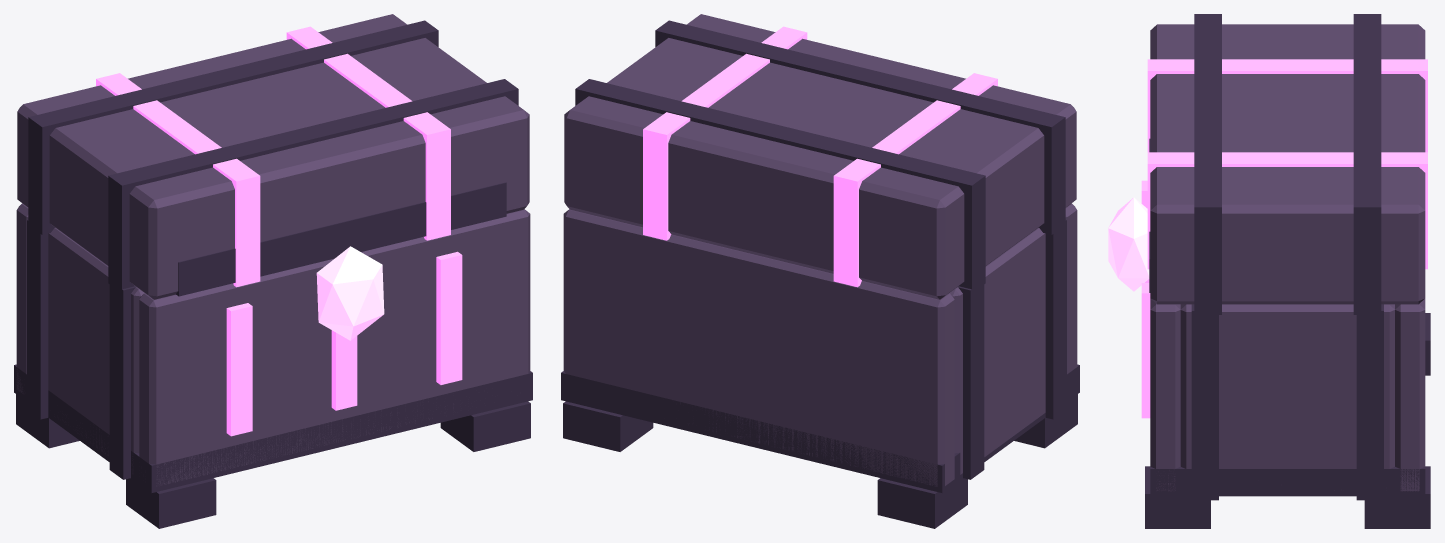
File: loot_chest_wellspring_closed.glb
3 renders of one model, left to right at view 1: azimuth 30°, elevation 25°; view 2: azimuth 150°, elevation 25°; view 3: azimuth 270°, elevation 25°, orthographic.
Visible parts, largest first — view 1: Well_Lid, Well_Body_Front, Well_Body_Floor, Well_Body_Left, Well_Lid_Lip, Well_Lid_Band_2, Well_Lid_Band_1, Well_Lid_Vein_1, Well_Lid_Vein_2, Well_Crystal_Lock, Well_Band_1, Well_Band_2 (+7 smaller); view 2: Well_Lid, Well_Body_Back, Well_Body_Left, Well_Body_Floor, Well_Lid_Band_1, Well_Lid_Band_2, Well_Lid_Vein_1, Well_Lid_Vein_2, Well_Band_2, Well_Band_1, Well_Foot_3, Well_Foot_4 (+2 smaller); view 3: Well_Lid, Well_Body_Right, Well_Lid_Band_2, Well_Lid_Band_1, Well_Body_Floor, Well_Body_Back, Well_Band_1, Well_Band_2, Well_Body_Front, Well_Lid_Vein_2, Well_Lid_Vein_1, Well_Crystal_Lock (+3 smaller).
Boxes of the visible parts, box(x1,y1,x2,y2) form: Well_Lid: box(17, 14, 529, 299); Well_Body_Front: box(139, 209, 530, 486); Well_Body_Floor: box(14, 364, 532, 492); Well_Body_Left: box(48, 228, 144, 473); Well_Lid_Lip: box(176, 182, 506, 296); Well_Lid_Band_2: box(28, 20, 438, 234); Well_Lid_Band_1: box(108, 79, 518, 292); Well_Lid_Vein_1: box(96, 73, 260, 287); Well_Lid_Vein_2: box(286, 26, 450, 240); Well_Crystal_Lock: box(316, 246, 384, 340); Well_Band_1: box(109, 281, 136, 479); Well_Band_2: box(27, 220, 48, 419); Well_Lid: box(564, 14, 1076, 299); Well_Body_Back: box(563, 209, 954, 486); Well_Body_Left: box(949, 228, 1045, 474); Well_Body_Floor: box(561, 364, 1079, 492); Well_Lid_Band_1: box(655, 20, 1065, 234); Well_Lid_Band_2: box(575, 79, 985, 292); Well_Lid_Vein_1: box(833, 73, 997, 287); Well_Lid_Vein_2: box(643, 26, 807, 240); Well_Band_2: box(957, 281, 984, 479); Well_Band_1: box(1045, 220, 1066, 419); Well_Foot_3: box(877, 478, 967, 528); Well_Foot_4: box(563, 401, 653, 451); Well_Lid: box(1150, 24, 1425, 304); Well_Body_Right: box(1180, 304, 1394, 490); Well_Lid_Band_2: box(1353, 14, 1381, 314); Well_Lid_Band_1: box(1194, 14, 1221, 314); Well_Body_Floor: box(1150, 466, 1425, 496); Well_Body_Back: box(1395, 298, 1425, 491); Well_Band_1: box(1191, 304, 1218, 500); Well_Band_2: box(1356, 304, 1383, 500); Well_Body_Front: box(1150, 298, 1180, 491); Well_Lid_Vein_2: box(1147, 152, 1427, 269); Well_Lid_Vein_1: box(1147, 59, 1427, 152); Well_Crystal_Lock: box(1108, 197, 1149, 291).
Size of the model in its own units: 0.832 by 0.658 by 0.5868.
